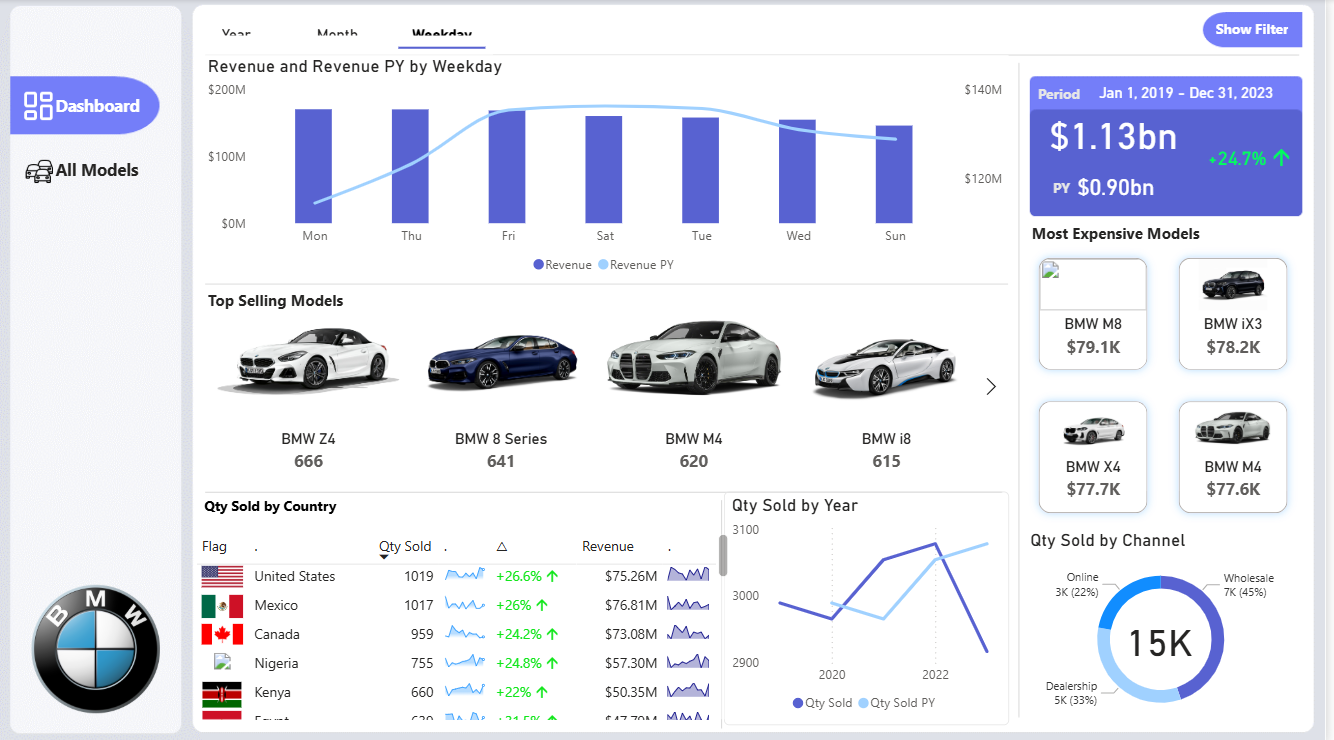

This screenshot's page, from the dashboard's own definition file:
{"tool":"powerbi","page":{"name":"Dashboard","canvas":[1280,720],"ordinal":0},"visuals":[{"type":"lineClusteredColumnComboChart","fields":{"Category":["Calendar.Weekday"],"Y":["All Measures.Revenue"],"Y2":["All Measures.Revenue PY"]},"box":[196.4,54.3,777.5,220.3],"z":0},{"type":"advancedSlicerVisual","fields":{"Values":["PeriodSlicer.PeriodSlicer"]},"box":[196.2,6.9,279.9,46.7],"z":1000},{"type":"card","fields":{"Values":["All Measures.Revenue"]},"box":[1007.3,103.8,137.3,51.1],"z":2000},{"type":"card","fields":{"Values":["All Measures.Revenue PY"]},"box":[1022.3,155.2,112.5,50.8],"z":3000},{"type":"textbox","box":[1012.7,167.6,38.4,38.4],"z":4000},{"type":"card","fields":{"Values":["All Measures.Revenue Variance % Arrow"]},"box":[1155.8,129.3,97.4,51.1],"z":5000},{"type":"card","fields":{"Values":["All Measures.Selected Period"]},"box":[1033.3,76.8,226.4,28.8],"z":6000},{"type":"textbox","box":[997.6,76.8,71.4,38.4],"z":7000},{"type":"advancedSlicerVisual","fields":{"Values":["dimModel.Model"]},"box":[185.2,274.6,788.6,199.6],"z":8000},{"type":"textbox","box":[196.4,274.6,150.1,36.7],"z":9000},{"type":"advancedSlicerVisual","fields":{"Values":["dimModel.Model"]},"box":[967.3,234,312.7,278],"z":10000},{"type":"textbox","box":[991.4,210.7,185.2,36.7],"z":11000},{"type":"lineChart","title":"Qty Sold by Year","fields":{"Category":["Calendar.Year"],"Y":["All Measures.Qty Sold","All Measures.Qty Sold PY"]},"box":[699.4,474.8,274.8,225.8],"z":12000},{"type":"donutChart","fields":{"Y":["All Measures.Qty Sold"],"Category":["dimChannel.Channel"]},"box":[991,512,262,194],"z":13000},{"type":"card","fields":{"Values":["All Measures.Qty Sold"]},"box":[1064,586,112,64],"z":14000},{"type":"tableEx","fields":{"Values":["dimCountry.Flag","dimCountry.Country","All Measures.Qty Sold","All Measures.Qty Sold Gradient Sparkline","All Measures.Qty Sold Variance % Arrow","All Measures.Revenue","All Measures.Revenue Sparkline"]},"box":[184.8,512.1,524,188.7],"z":15000},{"type":"textbox","box":[50,86.7,119.2,37.5],"z":16000},{"type":"image","box":[14.2,81.7,47.5,42.5],"z":17000},{"type":"textbox","box":[50,147.9,109,35],"z":18000},{"type":"image","box":[14,147.9,48,36],"z":19000},{"type":"actionButton","box":[11.4,139.3,166.4,54],"z":20000},{"type":"actionButton","box":[1159.2,8.5,100.1,40.7],"z":22000},{"type":"image","box":[27,557,133.7,140.8],"z":23000},{"type":"actionButton","box":[12.3,74.8,166.9,54],"z":24000},{"type":"textbox","box":[192.6,474.8,143.6,30.7],"z":25000}]}

Visuals, with their boxes in screenshot pixels (x1, y1, x2, y2), scaled from the page's 1280x720 canvas onto the 1334x740 screenshot:
lineClusteredColumnComboChart - Calendar.Weekday x All Measures.Revenue: bbox(205, 56, 1015, 282)
advancedSlicerVisual - PeriodSlicer.PeriodSlicer: bbox(204, 7, 496, 55)
card - All Measures.Revenue: bbox(1050, 107, 1193, 159)
card - All Measures.Revenue PY: bbox(1065, 160, 1183, 212)
textbox: bbox(1055, 172, 1095, 212)
card - All Measures.Revenue Variance % Arrow: bbox(1205, 133, 1306, 185)
card - All Measures.Selected Period: bbox(1077, 79, 1313, 109)
textbox: bbox(1040, 79, 1114, 118)
advancedSlicerVisual - dimModel.Model: bbox(193, 282, 1015, 487)
textbox: bbox(205, 282, 361, 320)
advancedSlicerVisual - dimModel.Model: bbox(1008, 240, 1333, 526)
textbox: bbox(1033, 217, 1226, 254)
"Qty Sold by Year" lineChart: bbox(729, 488, 1015, 720)
donutChart - All Measures.Qty Sold x dimChannel.Channel: bbox(1033, 526, 1306, 726)
card - All Measures.Qty Sold: bbox(1109, 602, 1226, 668)
tableEx - dimCountry.Flag x dimCountry.Country: bbox(193, 526, 739, 720)
textbox: bbox(52, 89, 176, 128)
image: bbox(15, 84, 64, 128)
textbox: bbox(52, 152, 166, 188)
image: bbox(15, 152, 65, 189)
actionButton: bbox(12, 143, 185, 199)
actionButton: bbox(1208, 9, 1312, 51)
image: bbox(28, 572, 167, 717)
actionButton: bbox(13, 77, 187, 132)
textbox: bbox(201, 488, 350, 520)
